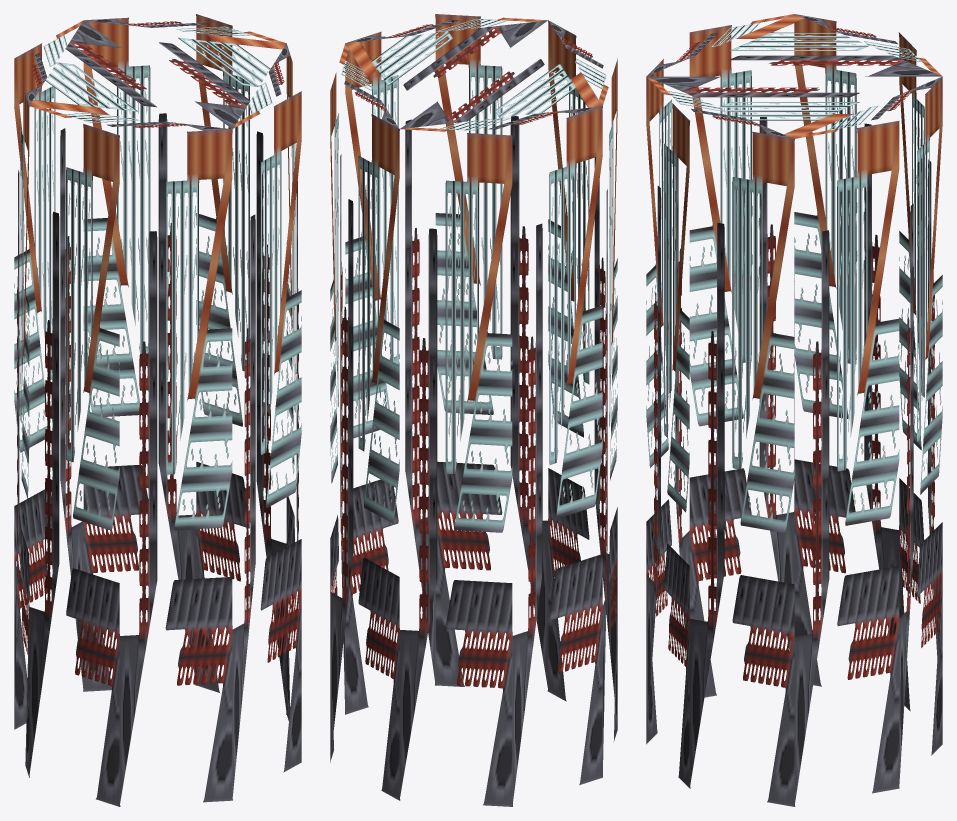
Rendered from mixer_fluid.obj.
3 renders of one model, left to right at view 1: azimuth 30°, elevation 25°; view 2: azimuth 150°, elevation 25°; view 3: azimuth 270°, elevation 25°, orthographic.
Visible parts, largest first — view 1: Fluid; view 2: Fluid; view 3: Fluid.
Part boxes in pixels (x1,y1,x2,y2): Fluid: (14, 14, 301, 806); Fluid: (330, 14, 617, 806); Fluid: (646, 14, 942, 806).
Size of the model in its own units: 0.6022 by 1.5 by 0.6028.
